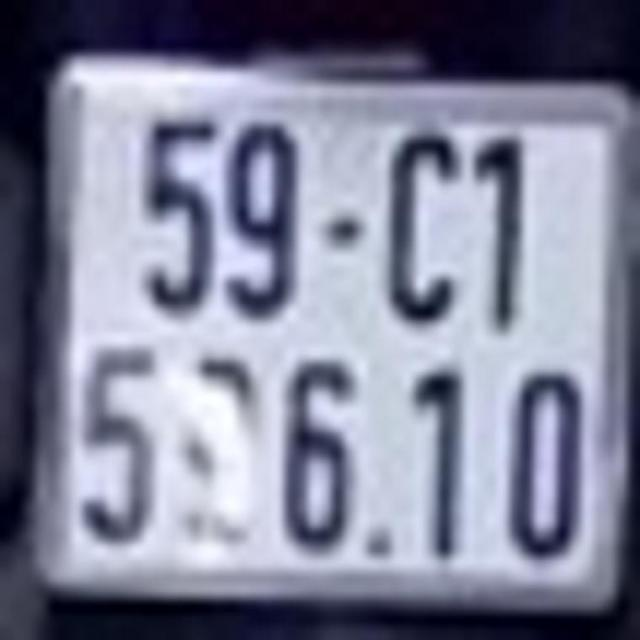0: (508, 368, 578, 563)
1: (474, 128, 529, 335), (413, 368, 458, 562)
5: (81, 346, 154, 544), (141, 120, 214, 314)
6: (283, 358, 354, 548)
9: (225, 122, 299, 321)
C: (387, 129, 461, 320)
